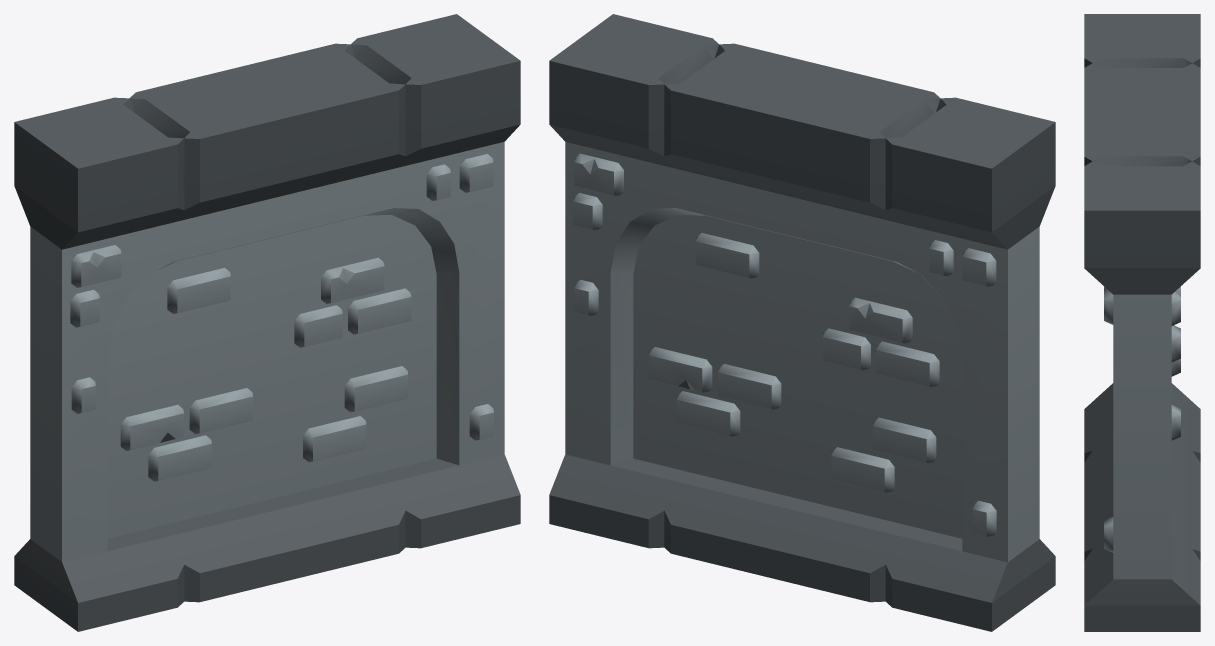
Rendered from wall_arched.obj.
3 views of the same model, side by side, from view 1: azimuth 30°, elevation 25°; view 2: azimuth 150°, elevation 25°; view 3: azimuth 270°, elevation 25° (orthographic). The views are drawn at different scales.
Visible parts, largest first — view 1: wall_arched; view 2: wall_arched; view 3: wall_arched.
Part boxes in pixels (bbox=[...]): wall_arched: bbox=[14, 14, 520, 631]; wall_arched: bbox=[549, 14, 1055, 631]; wall_arched: bbox=[1084, 14, 1200, 631].
Size of the model in its own units: 4 by 4 by 1.
1 material, 1 textured.
